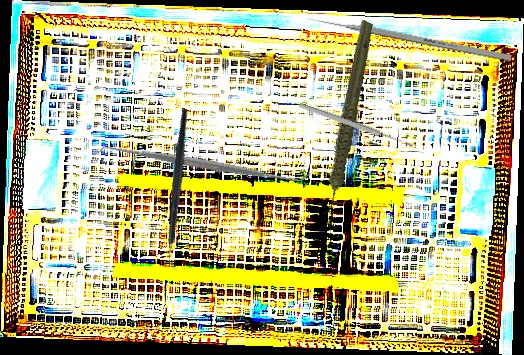Chopper: (116, 106, 244, 273)
Handpiece: (279, 18, 412, 218)
Pusher: (306, 14, 512, 62)
Spatula Surgical: (96, 133, 312, 194)
Surgical Spoon: (298, 101, 414, 150)
